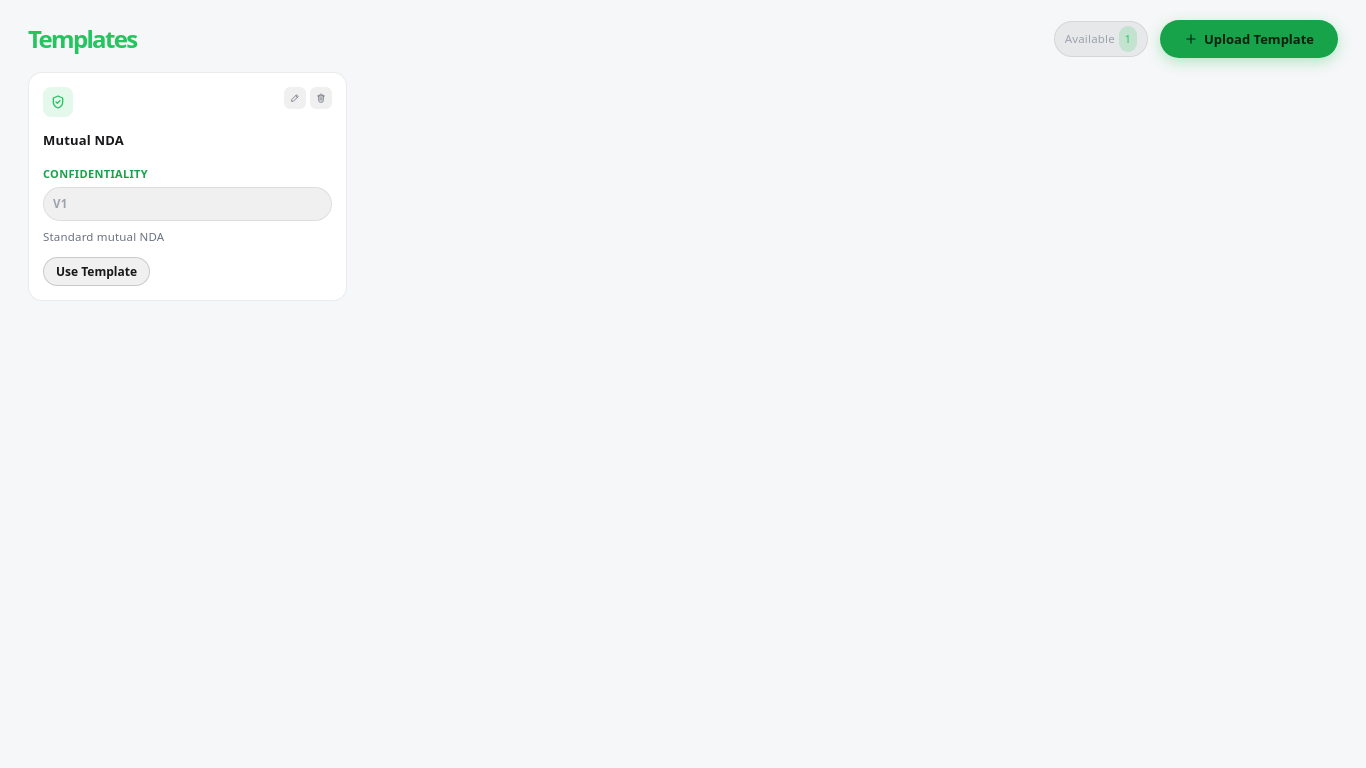
Test case: Templates page › edits a template
The width and height of the screenshot is (1366, 768).
Check: the text "Mutual NDA" is shown, box [43,131,124,149]
Click the button named "edit mutual nda" at (294, 98), box [284,87,306,109]
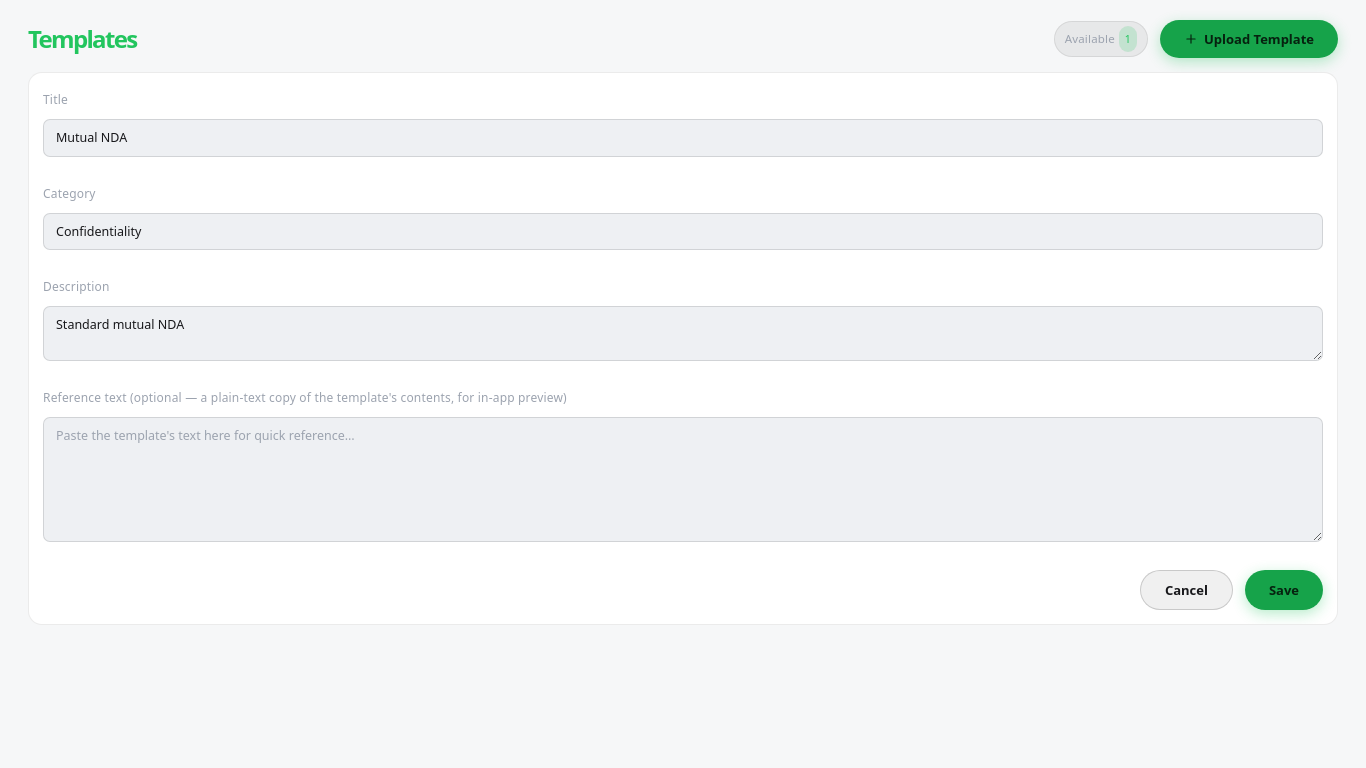
Replace the text in the field showing "Mutual NDA" with "Mutual NDA v2" at (683, 138), box [43,119,1323,157]
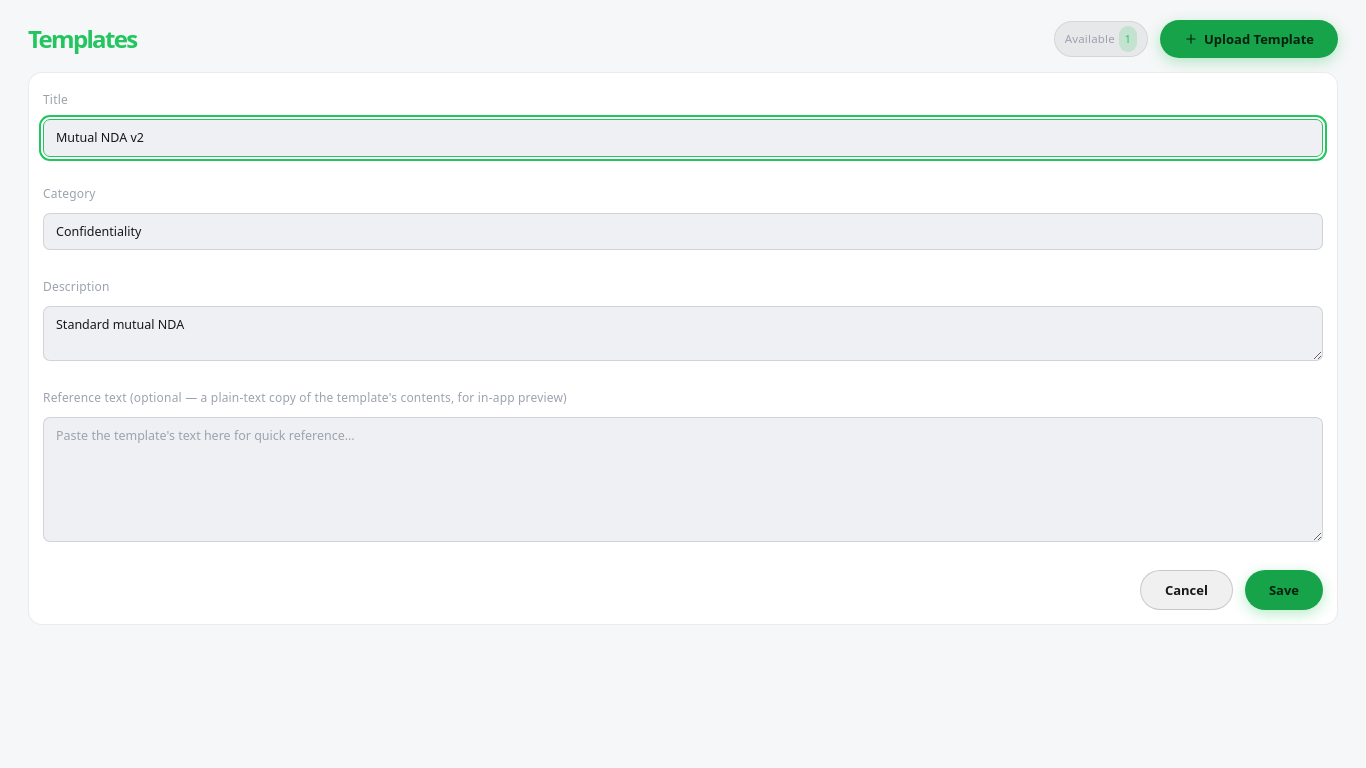
Click the button "Save" at (1284, 590), box [1245,570,1323,610]
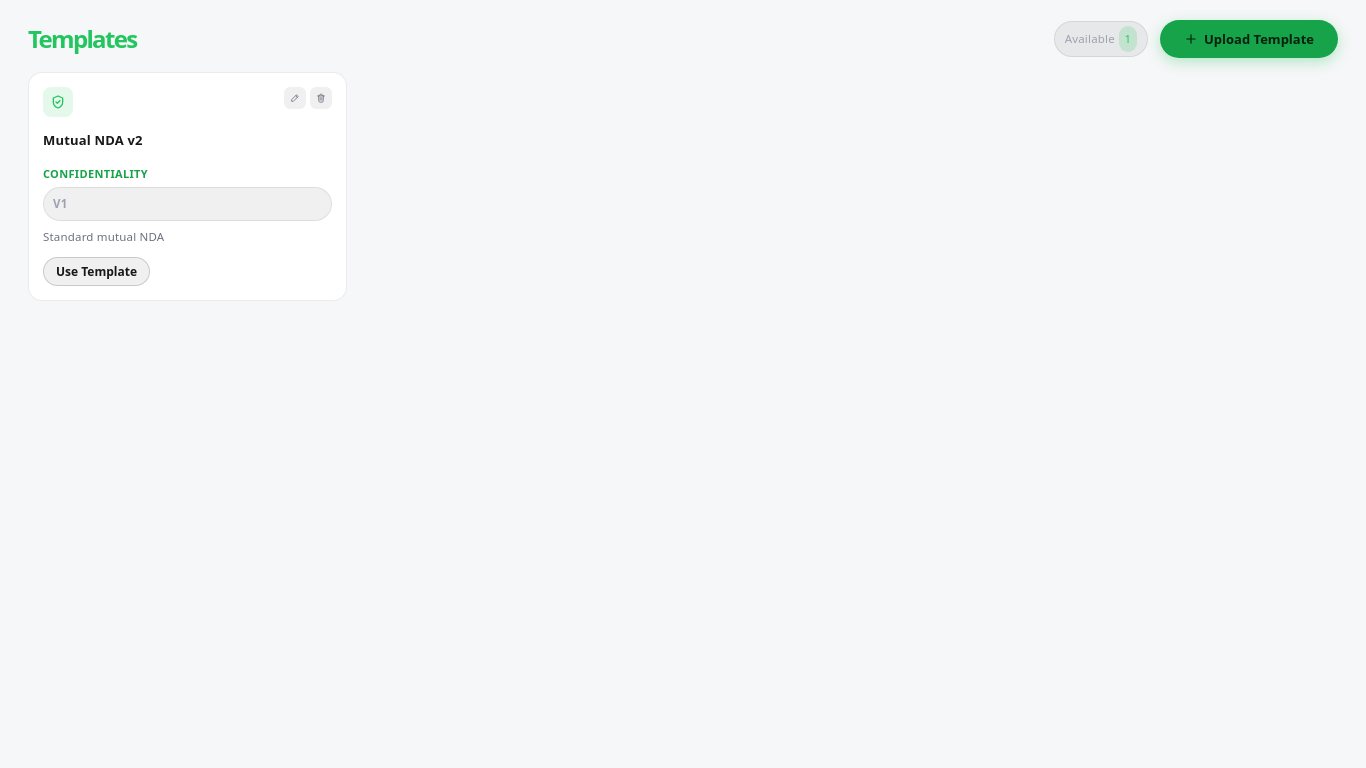
Check: the text "Mutual NDA v2" is shown, box [43,131,143,149]
